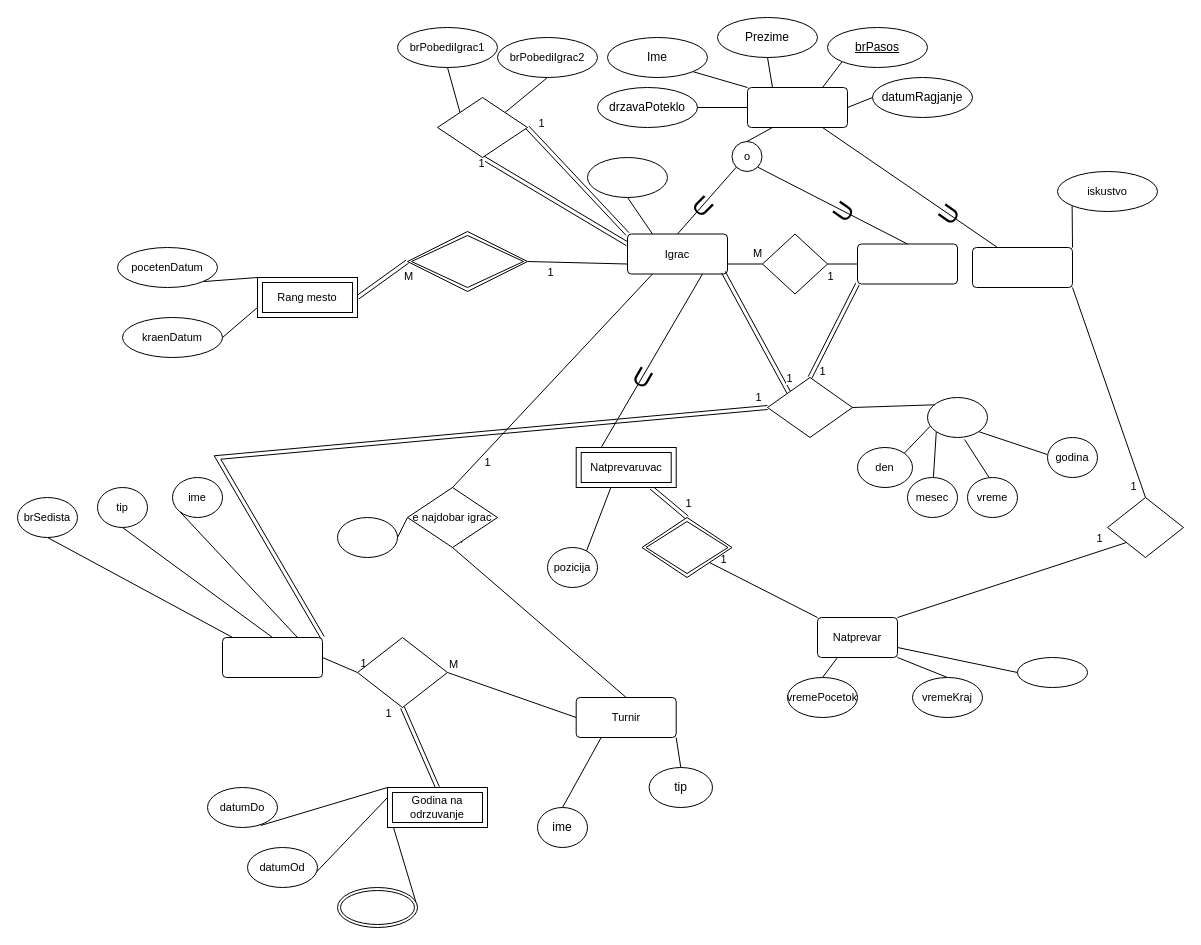
Some shapes in this 1201 by 945 pixel diagram are drawn without their labels. Each missing label, with the centre of its shape:
"brPobedi" goes at [367,537].
"datum" goes at [957,417].
"e rangiran" goes at [467,261].
"go treniral" goes at [795,263].
"godinaPocetok" goes at [627,177].
"headToHead" goes at [482,127].
"kraenRezultat" goes at [1052,672].
"natprevaruva" goes at [686,547].
"odrzuvanjeTurnir" goes at [402,672].
"sponzori" goes at [377,907].
"sudenje" goes at [1145,527].
"Sudija" goes at [1022,267].
"Teren" goes at [272,657].
"Trener" goes at [907,263].
"Trening" goes at [809,407].
"Ucesnik" goes at [797,107].
